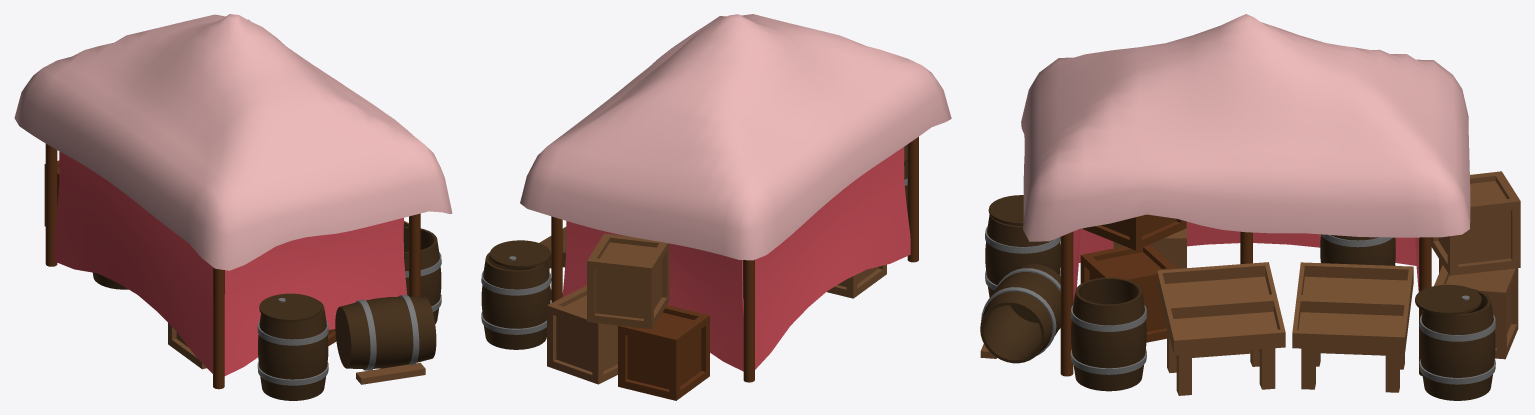
Rendered from targ.fbx.
The picture shows the model from 3 angles, left to right: view 1: azimuth 30°, elevation 25°; view 2: azimuth 150°, elevation 25°; view 3: azimuth 270°, elevation 25°; orthographic projection. The views are drawn at different scales.
Visible parts, largest first — view 1: Plane, Cylinder.007, Cylinder.010, Cylinder.011, Cylinder, Cylinder.006, Cylinder.012, Cube.003, Cube.006; view 2: Plane, Cylinder.007, Cube.002, Cube.001, Cylinder.008, Cube, Cylinder, Cylinder.009, Cube.006; view 3: Plane, Cube.004, Cube.005, Cylinder.006, Cylinder.008, Cylinder.010, Cube.002, Cube.007, Cylinder.007, Cylinder.011, Cube, Cylinder (+5 smaller).
Boxes of the visible parts, bbox=[...] form: Plane: bbox=[14, 14, 452, 270]; Cylinder.007: bbox=[54, 151, 407, 375]; Cylinder.010: bbox=[335, 295, 436, 370]; Cylinder.011: bbox=[257, 300, 328, 400]; Cylinder: bbox=[45, 144, 420, 389]; Cylinder.006: bbox=[403, 226, 441, 323]; Cylinder.012: bbox=[259, 293, 321, 322]; Cube.003: bbox=[356, 362, 425, 384]; Cube.006: bbox=[168, 323, 206, 369]; Plane: bbox=[520, 14, 951, 260]; Cylinder.007: bbox=[562, 147, 910, 371]; Cube.002: bbox=[587, 233, 669, 329]; Cube.001: bbox=[618, 305, 709, 400]; Cylinder.008: bbox=[481, 252, 551, 349]; Cube: bbox=[547, 285, 617, 384]; Cylinder: bbox=[551, 137, 918, 382]; Cylinder.009: bbox=[490, 240, 550, 268]; Cube.006: bbox=[827, 264, 886, 298]; Plane: bbox=[1021, 14, 1470, 241]; Cube.004: bbox=[1157, 262, 1285, 395]; Cube.005: bbox=[1292, 262, 1413, 392]; Cylinder.006: bbox=[1070, 277, 1146, 391]; Cylinder.008: bbox=[1419, 288, 1495, 400]; Cylinder.010: bbox=[980, 264, 1060, 363]; Cube.002: bbox=[1431, 171, 1520, 275]; Cube.007: bbox=[1080, 244, 1176, 342]; Cylinder.007: bbox=[1073, 221, 1418, 303]; Cylinder.011: bbox=[985, 215, 1060, 297]; Cube: bbox=[1434, 265, 1518, 359]; Cylinder: bbox=[1060, 231, 1431, 376].
Size of the model in its own units: 939 by 918 by 1473.
